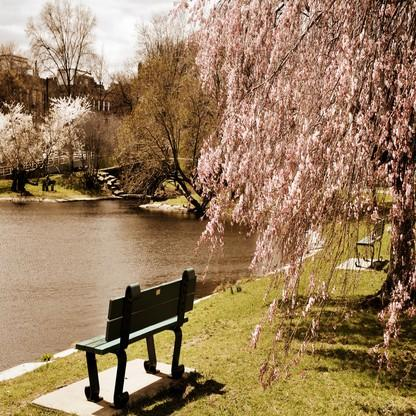obstacle: (56, 267, 212, 406)
